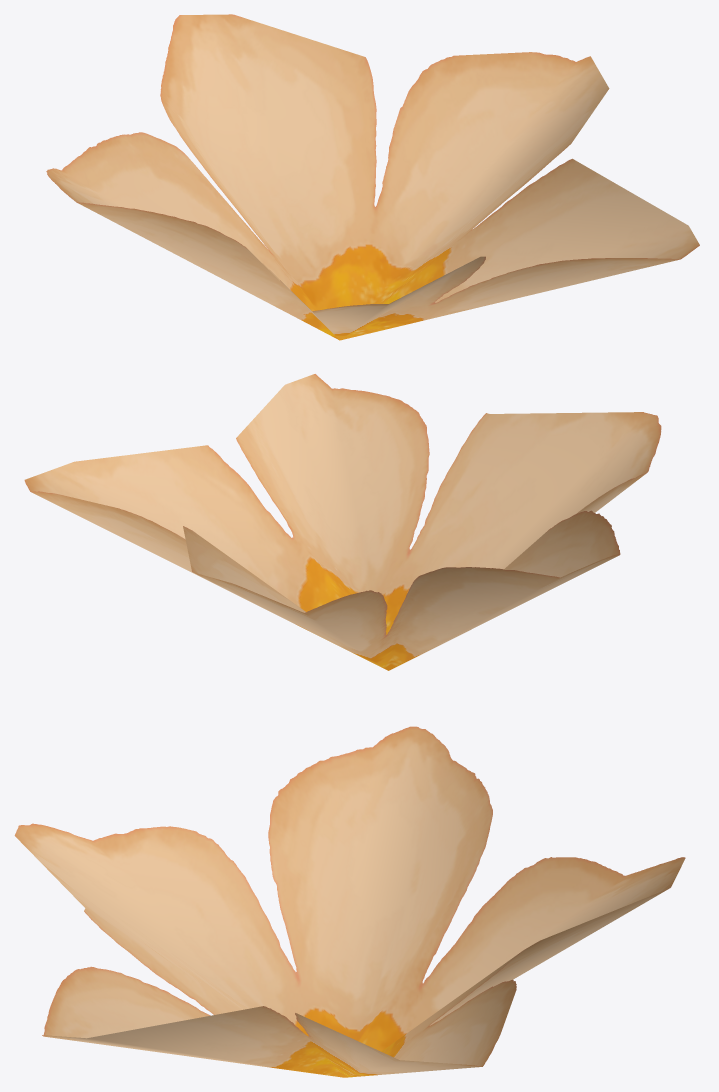
File: Flower_Petal.gltf
3 views of the same model, one above another, from view 1: azimuth 30°, elevation 25°; view 2: azimuth 150°, elevation 25°; view 3: azimuth 270°, elevation 25° (orthographic). The views are drawn at different scales.
Visible parts, largest first — view 1: Petal_2; view 2: Petal_2; view 3: Petal_2.
Part boxes in pixels (x1,y1,x2,y2): Petal_2: (46, 14, 699, 340); Petal_2: (24, 374, 661, 670); Petal_2: (14, 726, 685, 1077).
Size of the model in its own units: 0.6732 by 0.2361 by 0.6311.
Materials: 1 (1 with a texture image).
